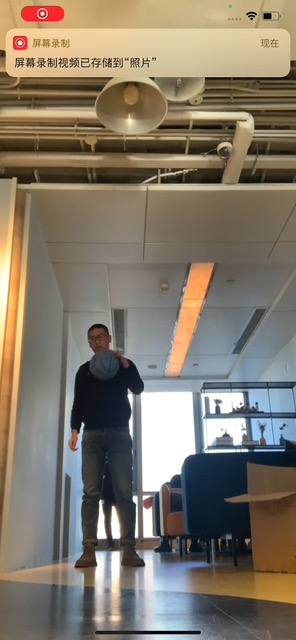ball: (89, 350, 120, 379)
